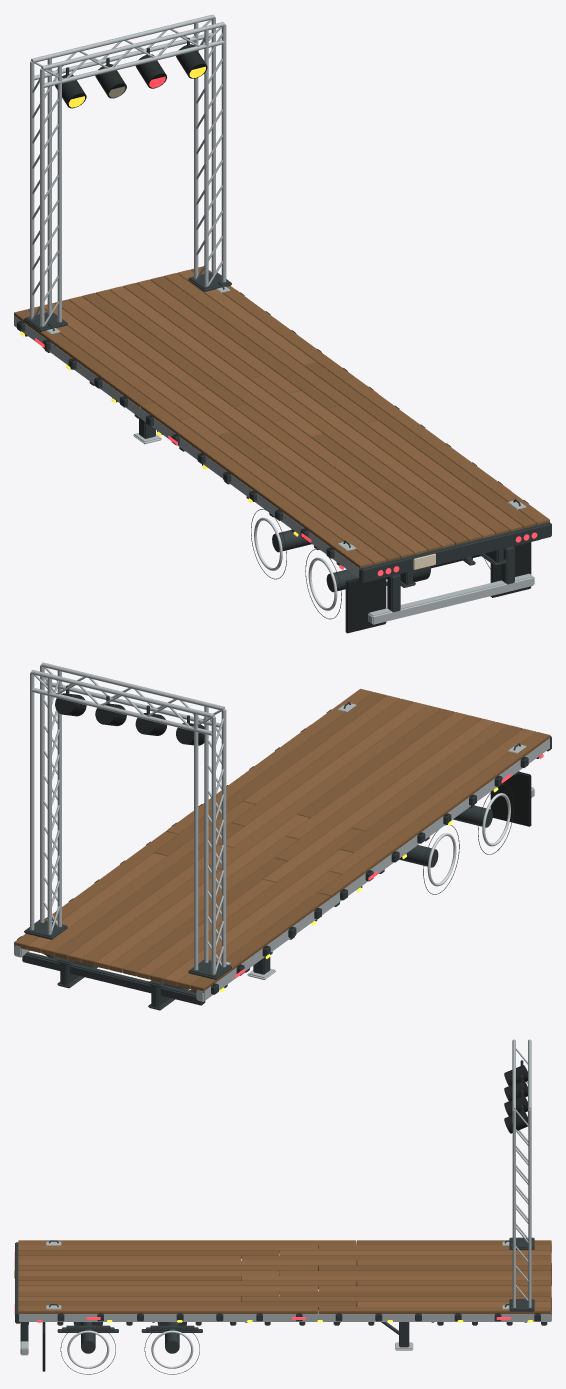
Rendered from BandTrailer.fbx.
3 views of the same model, one above another, from view 1: azimuth 30°, elevation 25°; view 2: azimuth 150°, elevation 25°; view 3: azimuth 270°, elevation 25° (orthographic). The views are drawn at different scales.
Visible parts, largest first — view 1: BandTrailer; view 2: BandTrailer; view 3: BandTrailer.
Boxes of the visible parts, <box> form: BandTrailer: <box>14,14,551,633</box>; BandTrailer: <box>14,662,551,1010</box>; BandTrailer: <box>14,1039,551,1374</box>.
Size of the model in its own units: 275 by 455 by 826.
